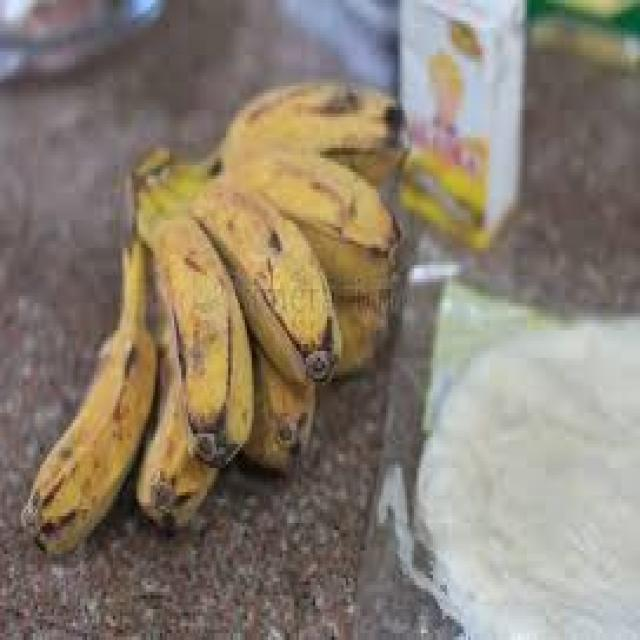banana: (22, 76, 410, 554)
